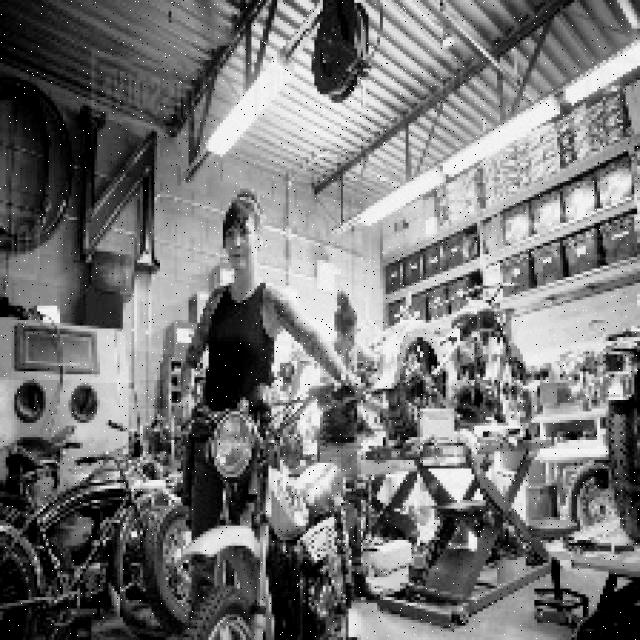Bike: (179, 395, 359, 639)
